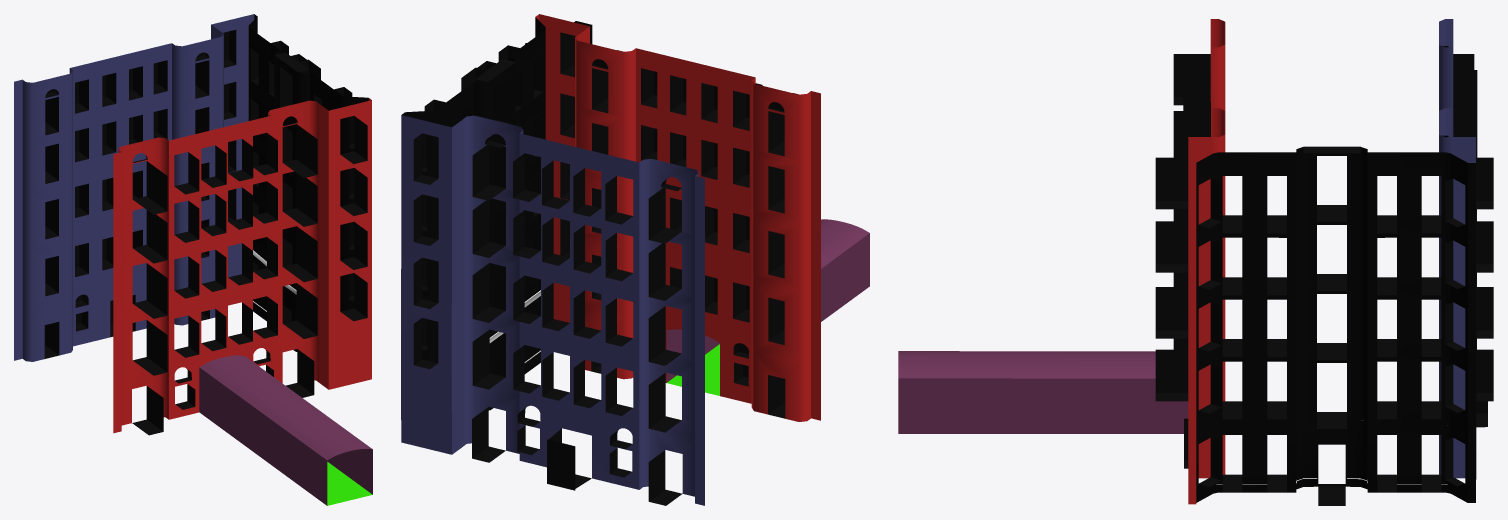
The picture shows the model from 3 angles, left to right: view 1: azimuth 30°, elevation 25°; view 2: azimuth 150°, elevation 25°; view 3: azimuth 270°, elevation 25°; orthographic projection. The views are drawn at different scales.
Parts seen in each view (by area): view 1: Object092, Object093, Object105, Object095, Object041; view 2: Object093, Object105, Object092, Object041, Object095; view 3: Object041, Object092, Object095, Object105, Object093.
Part boxes in pixels (left/top/right/bottom): Object092: left=44, top=30, right=367, bottom=435; Object093: left=14, top=14, right=254, bottom=361; Object105: left=113, top=98, right=371, bottom=433; Object095: left=199, top=355, right=372, bottom=505; Object041: left=248, top=14, right=368, bottom=351; Object093: left=401, top=115, right=704, bottom=505; Object105: left=535, top=14, right=820, bottom=421; Object092: left=413, top=21, right=798, bottom=505; Object041: left=402, top=17, right=545, bottom=410; Object095: left=666, top=219, right=869, bottom=395; Object041: left=1196, top=147, right=1476, bottom=502; Object092: left=1155, top=46, right=1493, bottom=505; Object095: left=898, top=351, right=1188, bottom=433; Object105: left=1188, top=19, right=1225, bottom=504; Object093: left=1439, top=19, right=1475, bottom=478.
Size of the model in its own units: 56.69 by 57.87 by 91.27.
